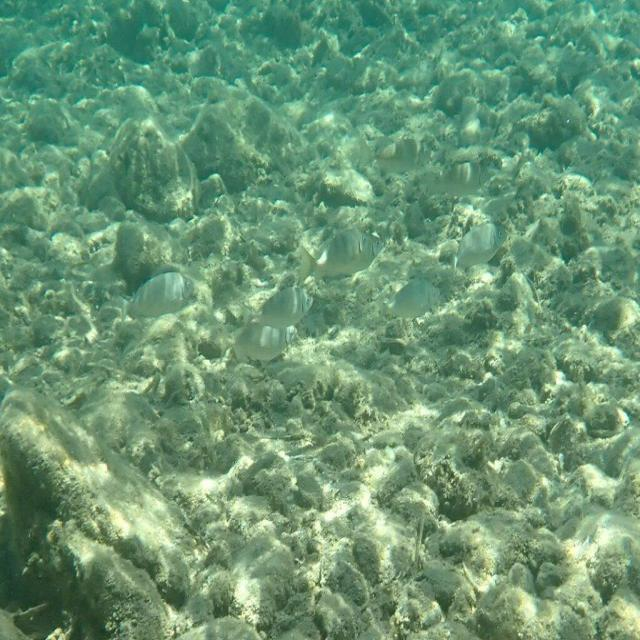Sokar Baligi: (290, 214, 385, 290), (115, 264, 200, 334), (376, 273, 444, 342)
